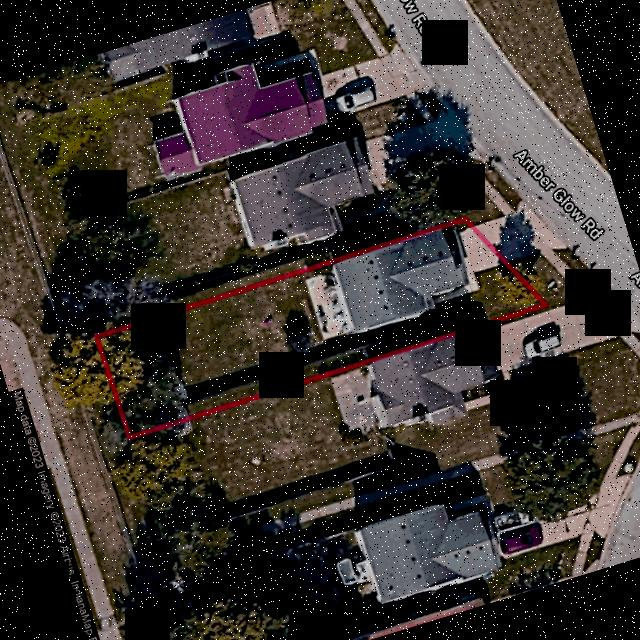Driveway: (429, 227, 505, 305)
Extra Driveway: (474, 197, 566, 263)
Extra Lawn: (508, 251, 577, 304), (550, 248, 596, 289), (466, 208, 502, 224), (507, 198, 521, 209)
Extra Sidewalk: (536, 249, 588, 292), (496, 203, 511, 217)
House: (333, 227, 467, 332)
Other: (302, 271, 353, 339)
